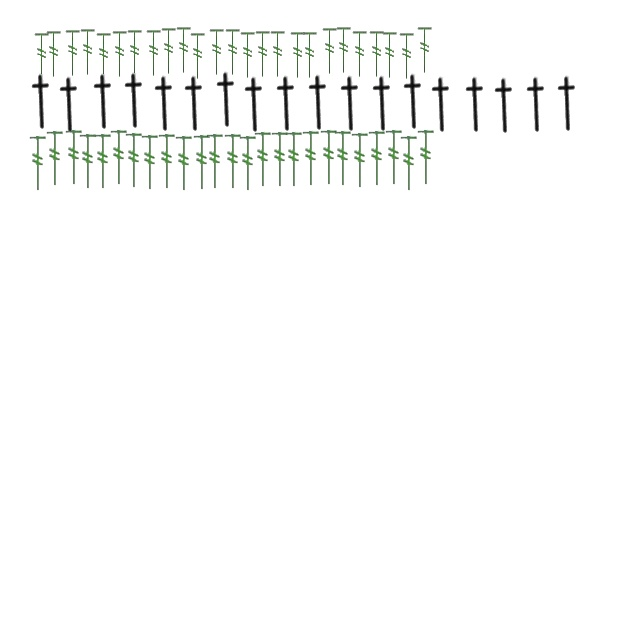enseble_chain: (118, 72, 152, 130), (238, 76, 272, 134), (302, 74, 336, 132), (520, 76, 554, 134), (148, 76, 182, 132), (178, 76, 212, 132), (210, 72, 244, 128), (270, 76, 304, 132), (334, 76, 368, 132), (366, 76, 400, 132), (488, 78, 522, 134), (54, 76, 86, 134), (426, 76, 458, 134), (460, 76, 492, 134), (26, 74, 58, 130), (88, 74, 120, 130), (398, 74, 430, 130), (552, 76, 584, 132)
fan: (124, 132, 144, 190), (140, 134, 160, 192), (192, 134, 212, 192), (350, 132, 370, 190), (28, 136, 48, 192), (64, 130, 84, 186), (78, 134, 98, 190), (174, 136, 194, 192), (238, 136, 258, 192), (270, 132, 290, 188), (284, 132, 304, 188), (384, 130, 404, 186), (416, 130, 436, 186), (46, 130, 64, 188), (302, 130, 320, 188), (334, 130, 352, 188), (368, 130, 386, 188), (94, 134, 112, 190), (110, 130, 128, 186), (158, 134, 176, 190), (206, 134, 224, 190), (224, 134, 242, 190), (254, 132, 272, 188), (320, 130, 338, 186), (400, 136, 418, 192), (33, 32, 51, 80), (45, 30, 63, 78), (64, 29, 82, 77), (79, 28, 97, 76), (95, 32, 113, 80), (111, 30, 129, 78), (126, 29, 144, 77), (145, 29, 163, 77), (160, 27, 178, 75), (175, 26, 193, 74), (189, 32, 207, 80), (208, 28, 226, 76), (224, 28, 242, 76), (239, 31, 257, 79), (254, 30, 272, 78), (269, 30, 287, 78), (289, 31, 307, 79), (301, 31, 319, 79), (321, 27, 339, 75), (335, 26, 353, 74), (351, 30, 369, 78), (368, 30, 386, 78), (381, 31, 399, 79), (398, 32, 416, 80), (416, 26, 434, 74)
